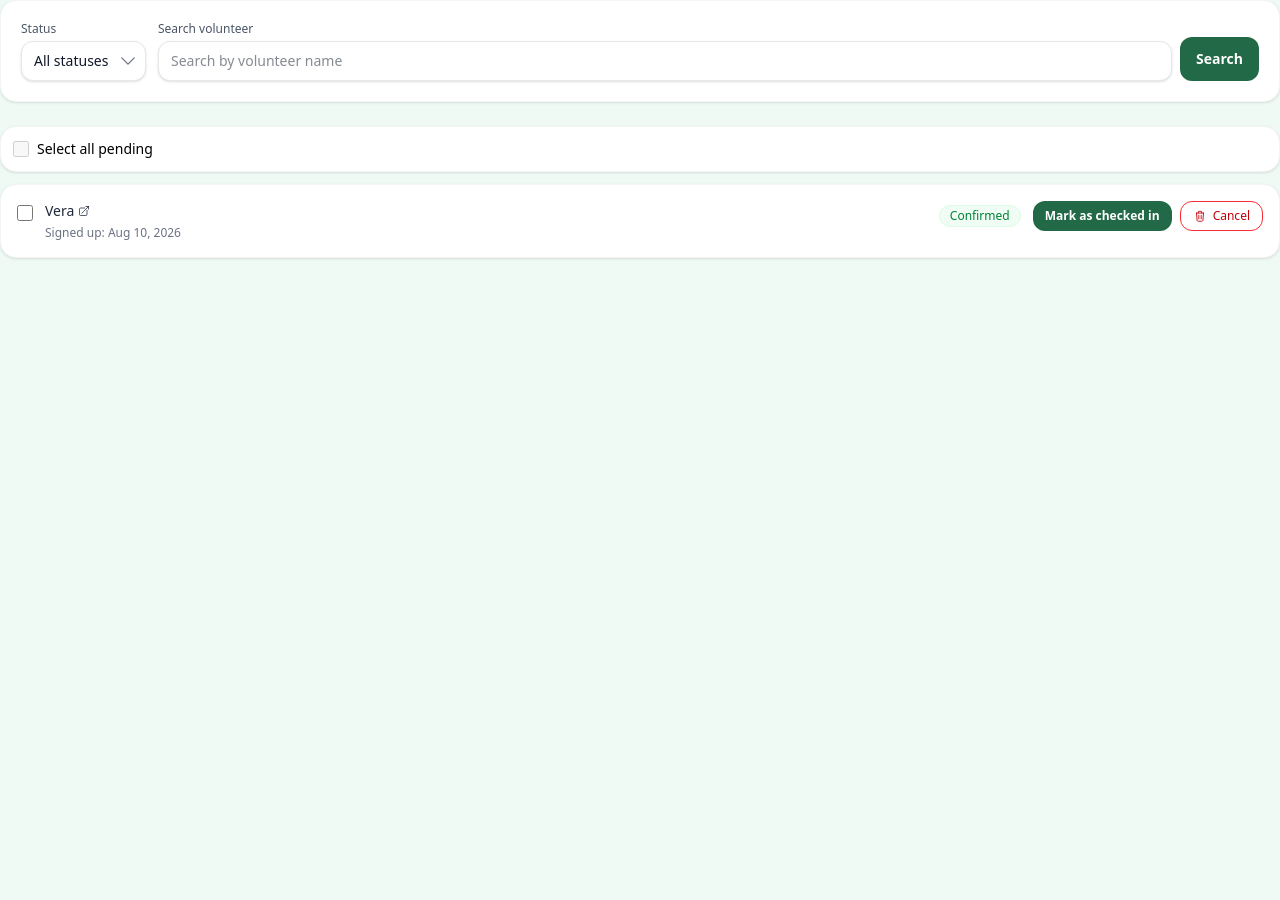
Scenario: EngagementManagementPage check-in state › swaps the check-in control for the badge, and back again on undo
Check: the link "Vera" is shown, box [45, 201, 90, 221]
Step 1. Click the button "Mark as checked in" → (1102, 216), box [1033, 201, 1172, 231]
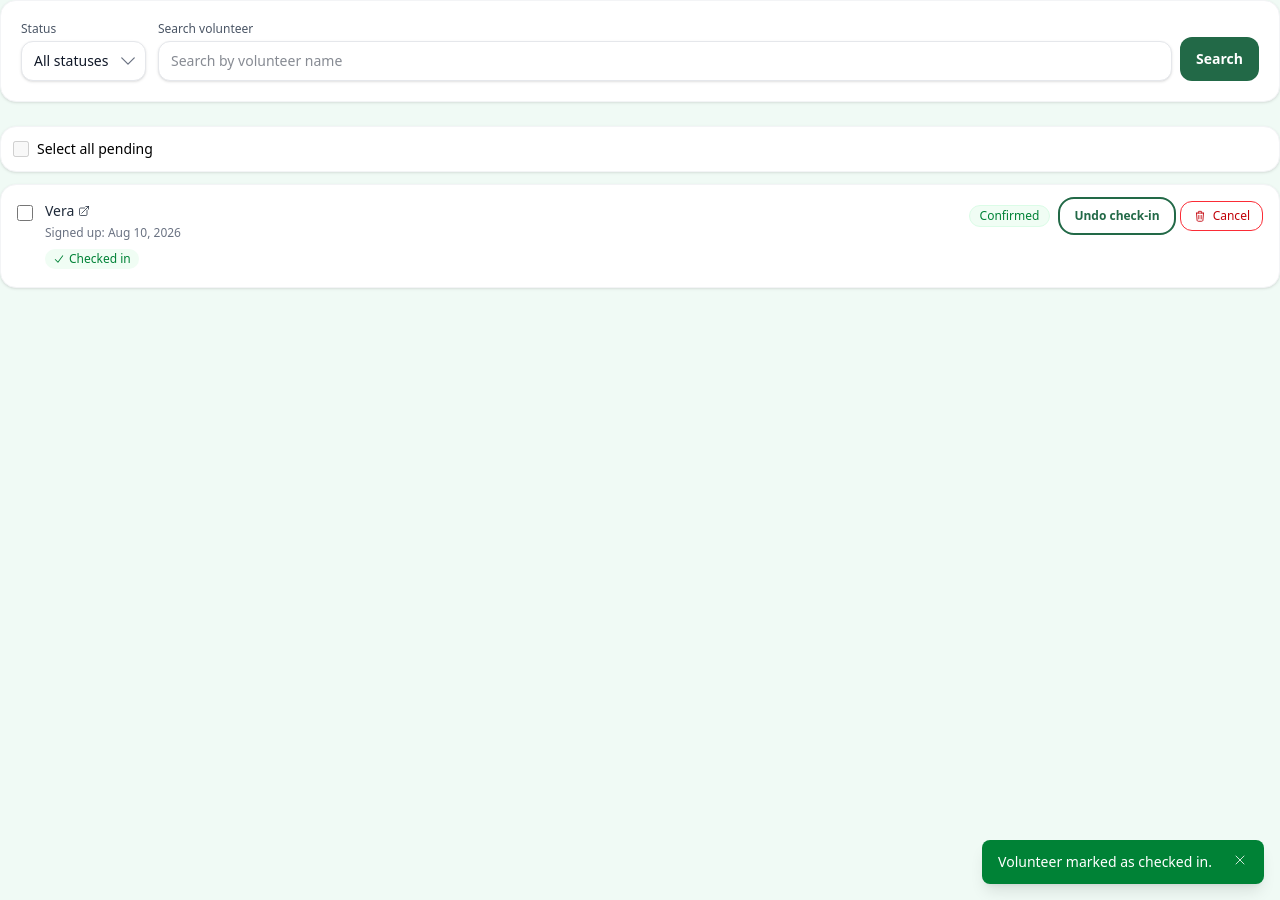
Check: the text "Checked in" is shown, box [45, 249, 139, 269]
Check: the button "Mark as checked in" is gone
Step 2. Click the button "Undo check-in" → (1117, 216), box [1062, 201, 1172, 231]
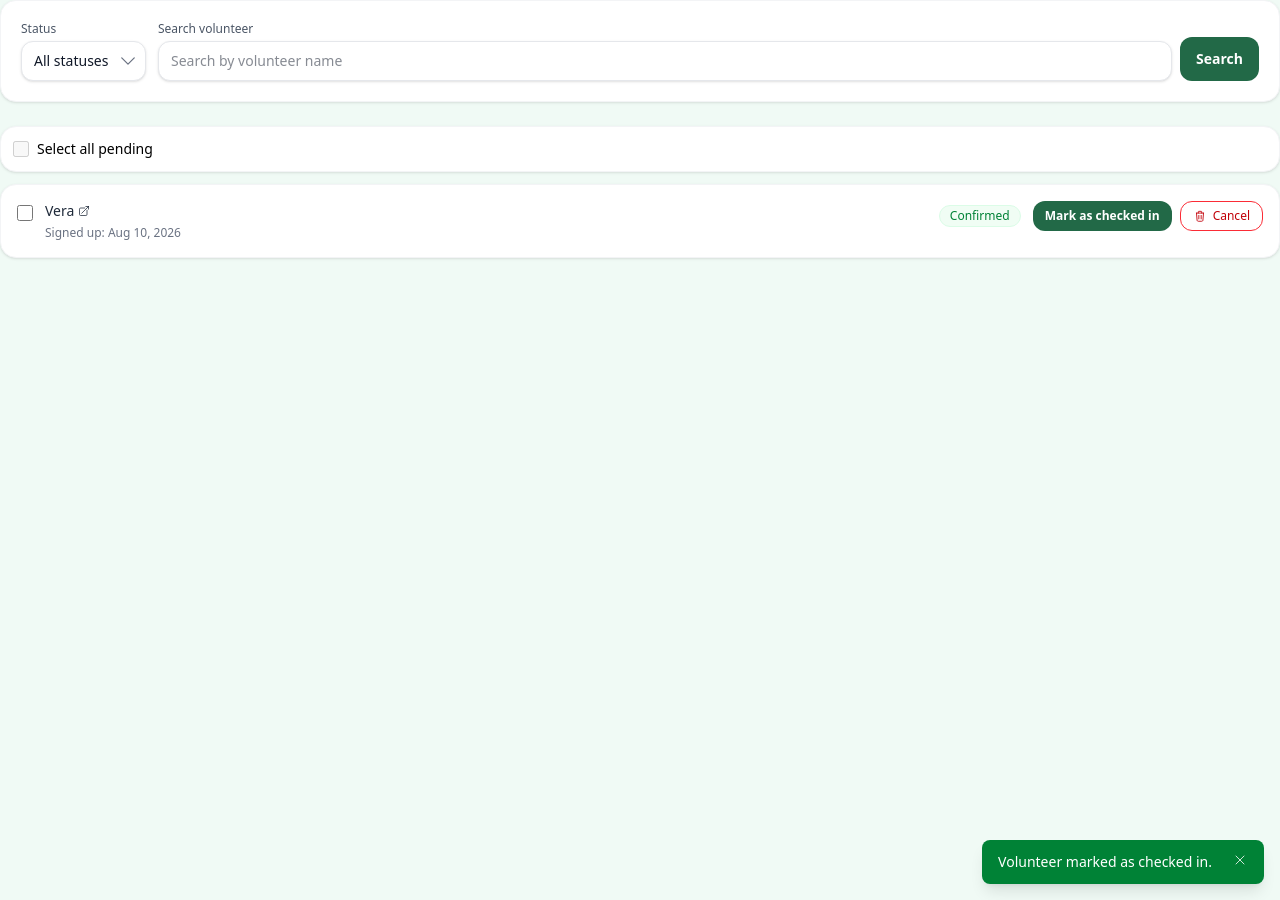
Check: the button "Mark as checked in" is shown, box [1033, 201, 1172, 231]
